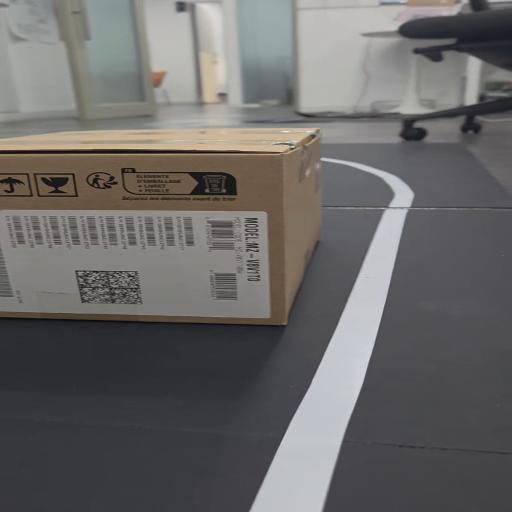Box: (0, 127, 315, 328)
